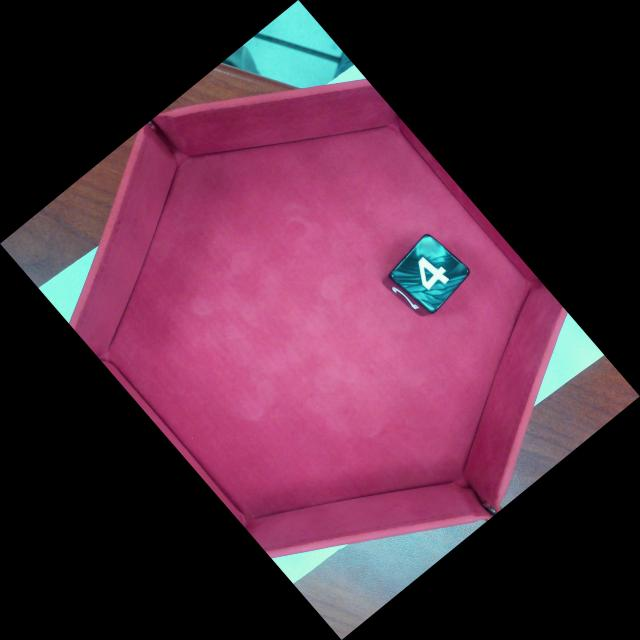dice: (392, 234, 471, 312)
